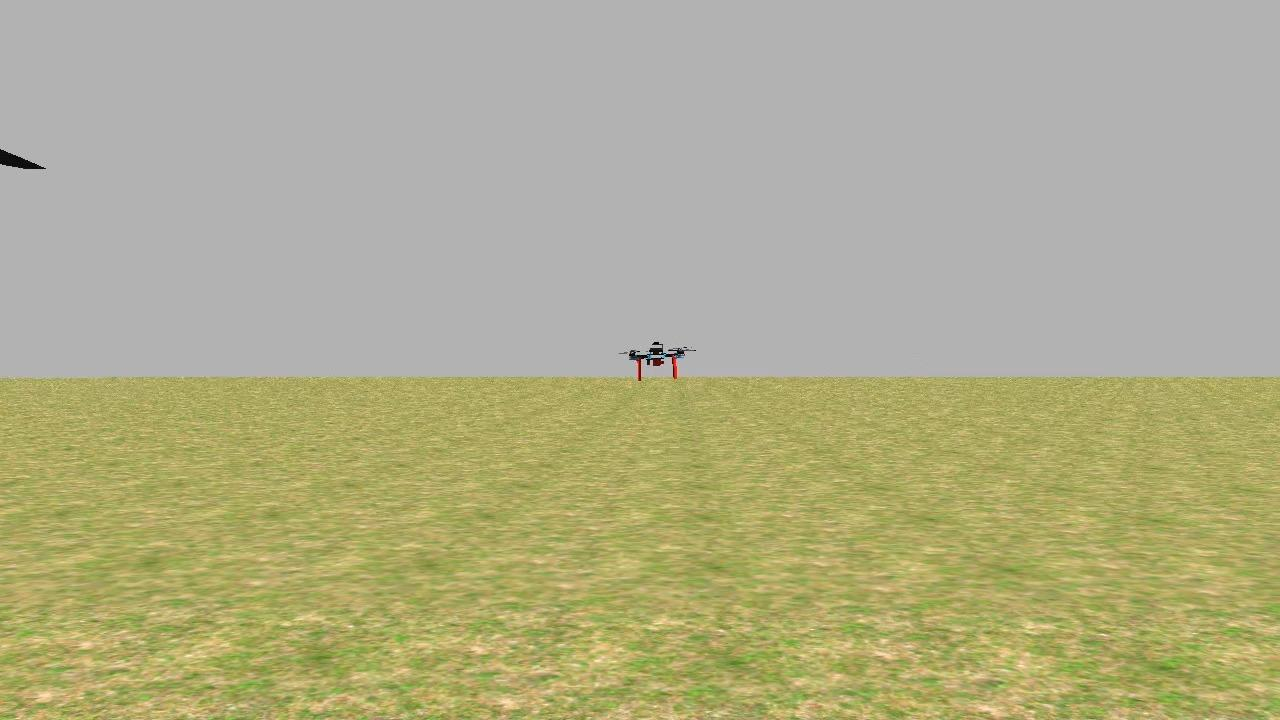UAV: (613, 322, 701, 396)
